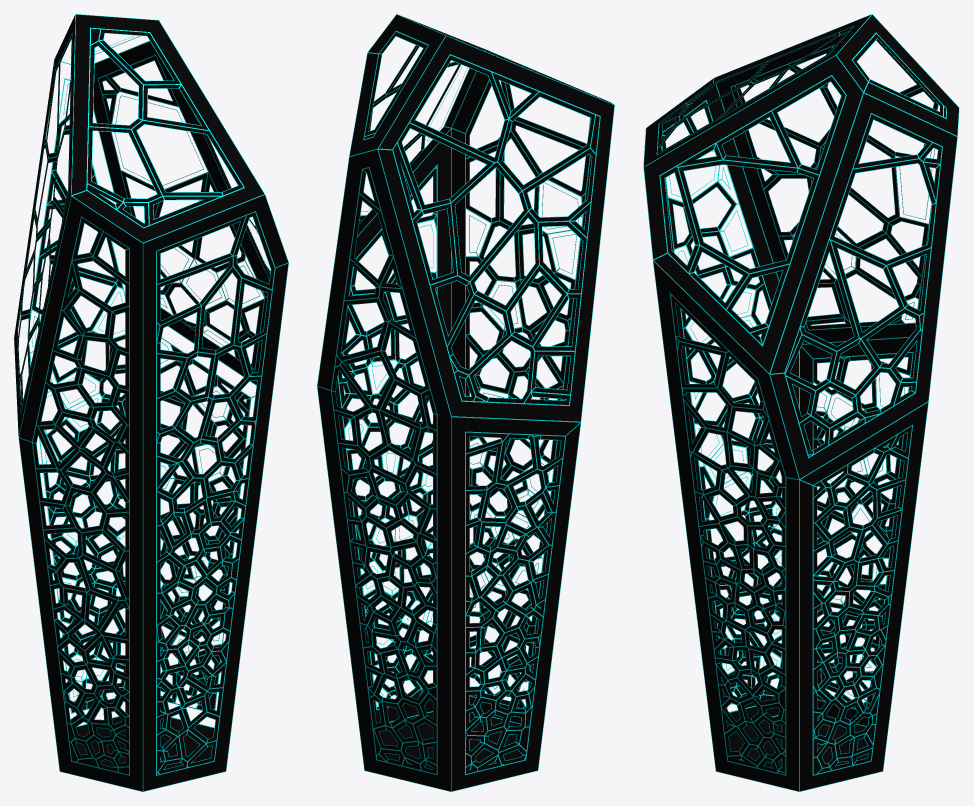
The model's file is Crystal-605-0.fbx.
3 views of the same model, side by side, from view 1: azimuth 30°, elevation 25°; view 2: azimuth 150°, elevation 25°; view 3: azimuth 270°, elevation 25° (orthographic). The views are drawn at different scales.
Parts seen in each view (by area): view 1: subnet1; view 2: subnet1; view 3: subnet1.
Part boxes in pixels (<box>): subnet1: <box>14,14,288,791</box>; subnet1: <box>317,14,614,791</box>; subnet1: <box>643,14,959,791</box>.
Size of the model in its own units: 119 by 330 by 131.
